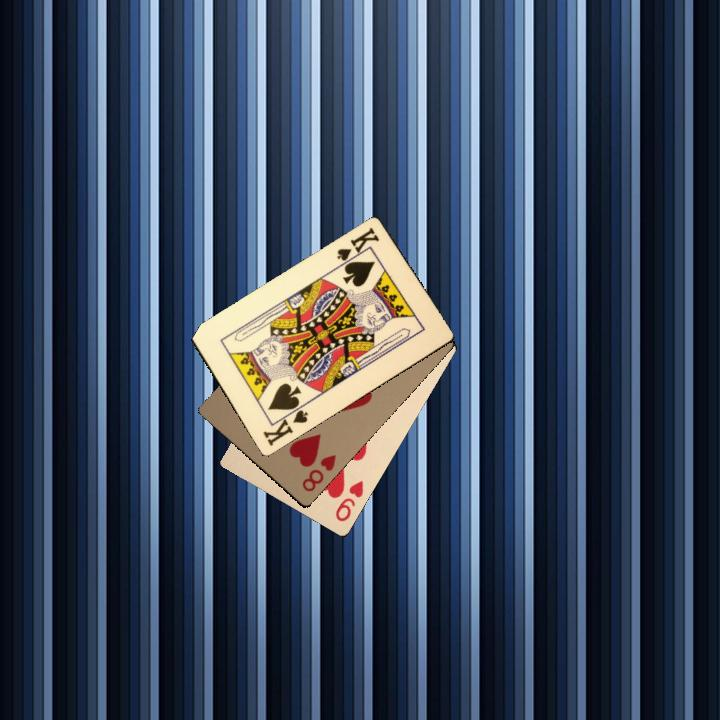8h: (298, 451, 338, 494)
9h: (331, 476, 366, 524)
Ks: (259, 402, 310, 448), (332, 223, 382, 269)
